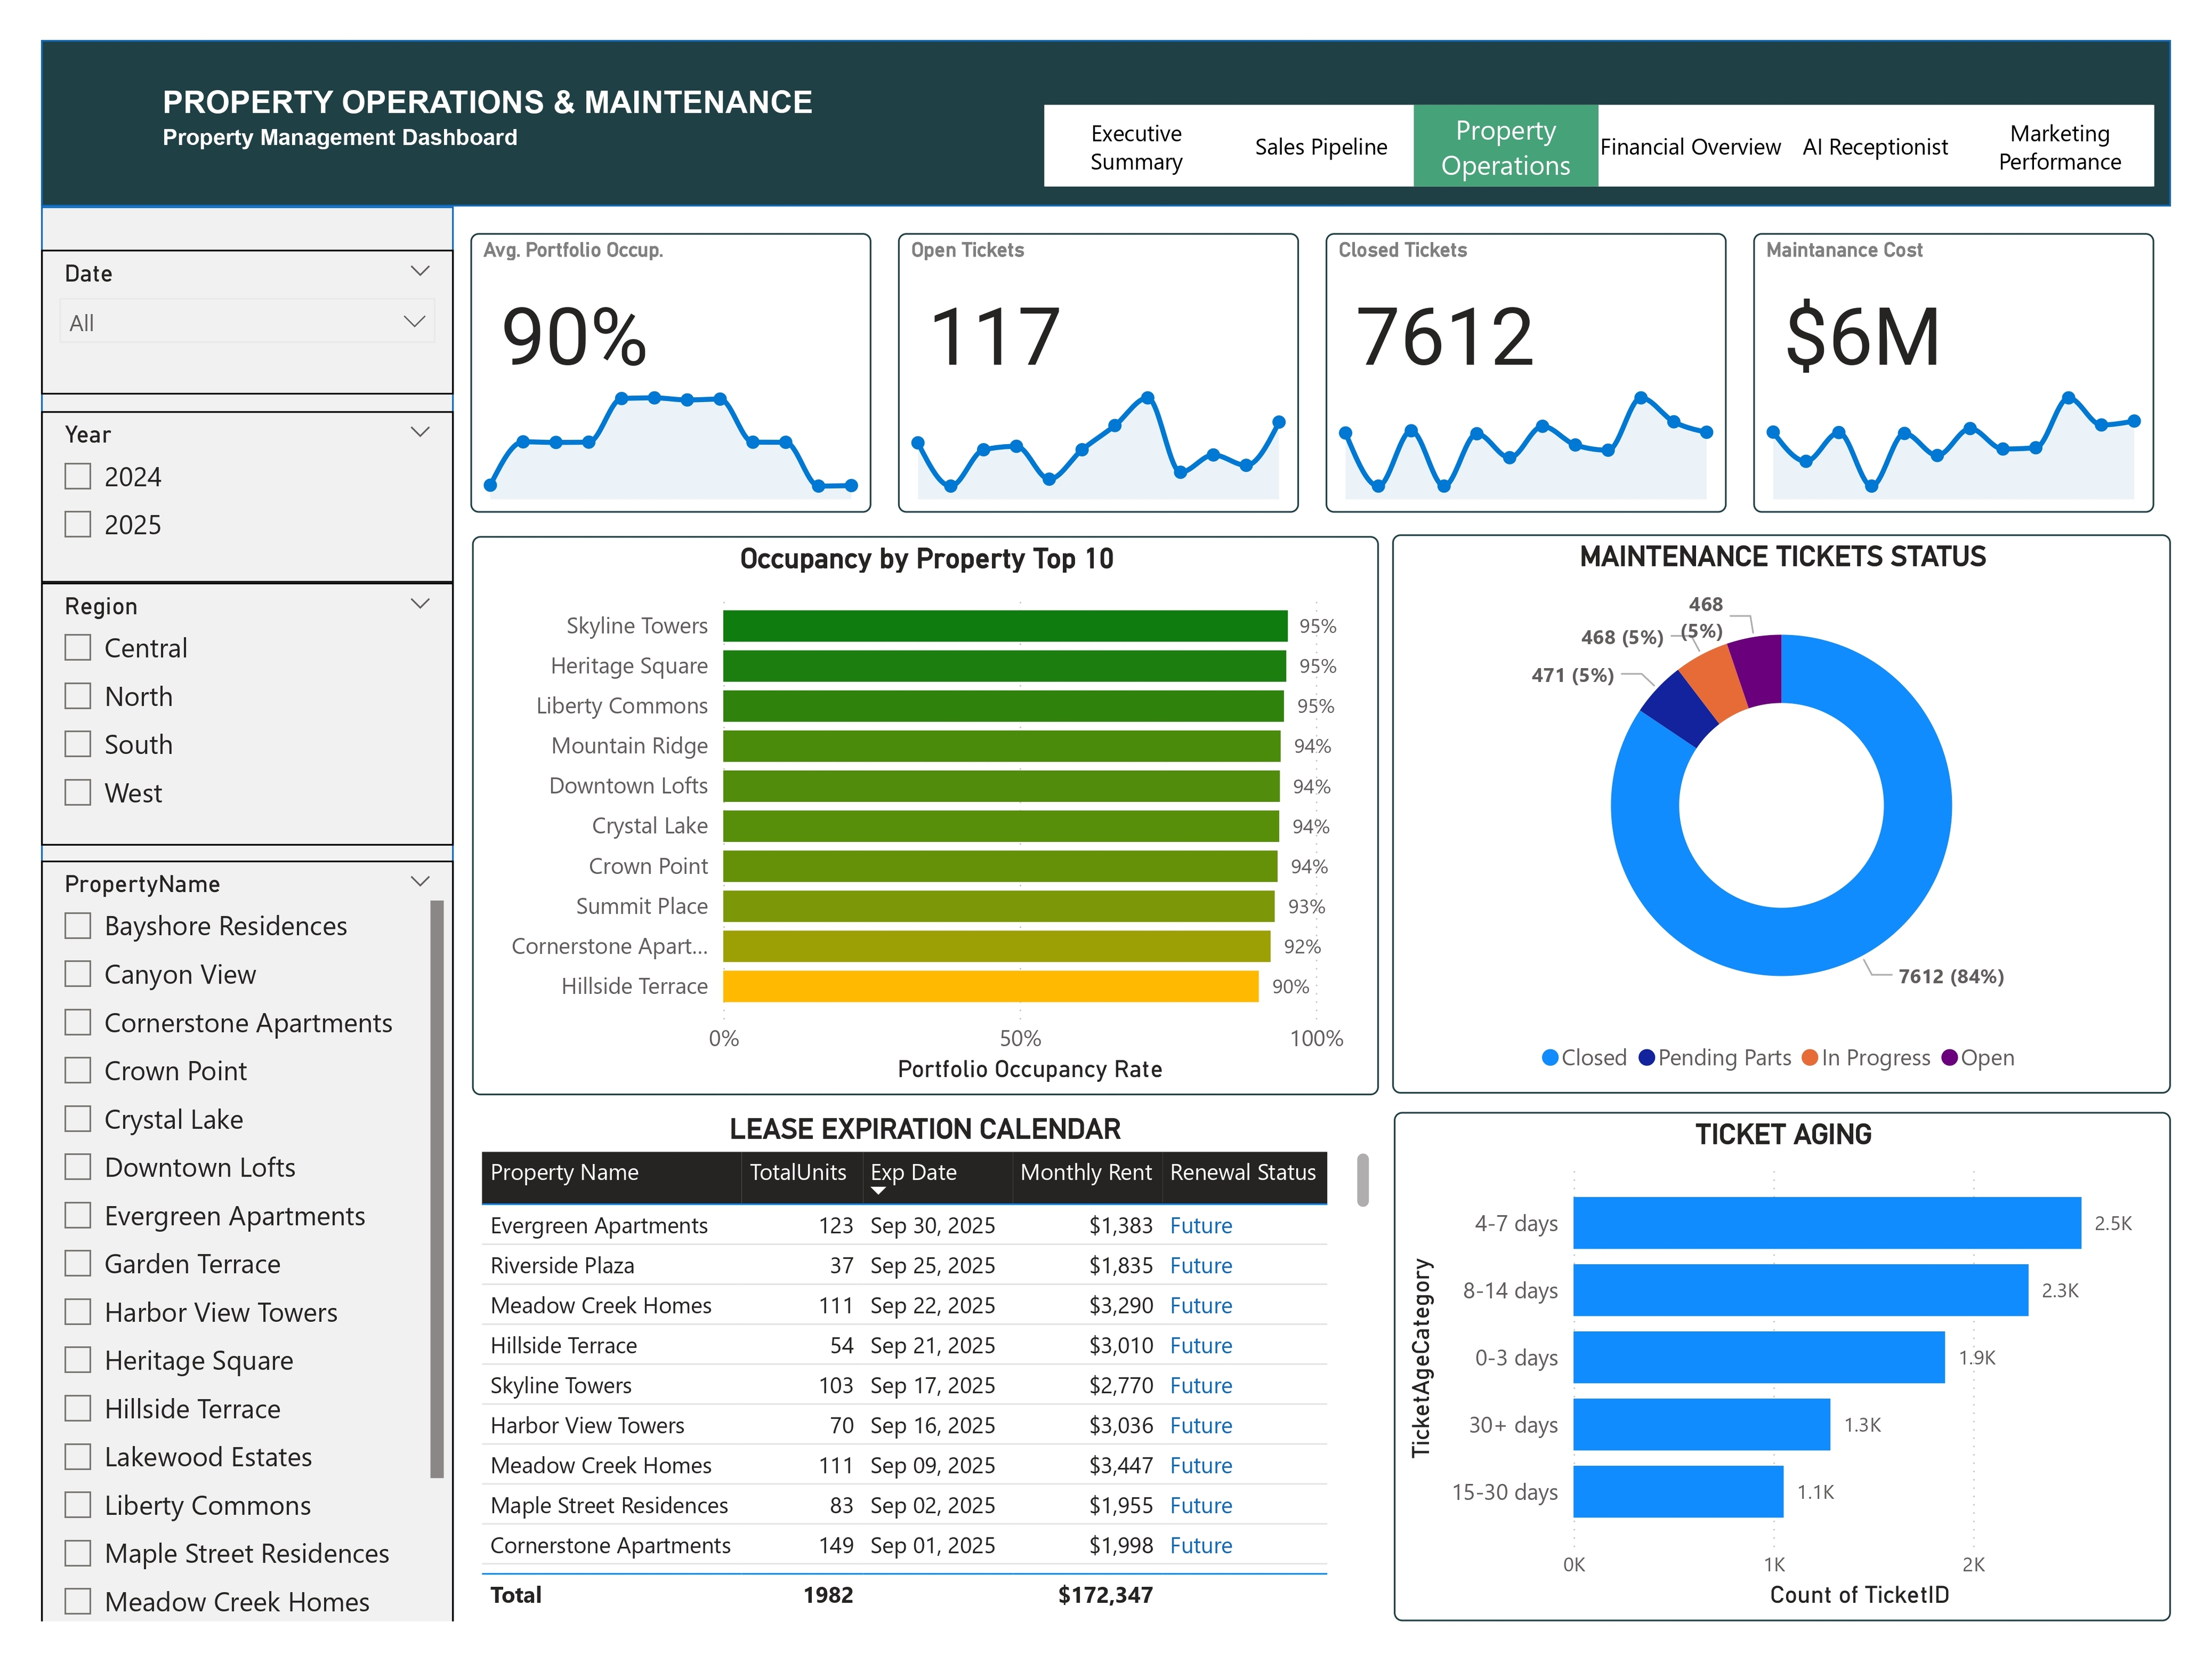

The dashboard page shown, as its layout file describes it:
{"tool":"powerbi","page":{"name":"Property Operations","canvas":[1280,950],"ordinal":2},"visuals":[{"type":"shape","box":[0,0,1280,100],"z":0},{"type":"shape","box":[0,100,247.8,950],"z":1000},{"type":"textbox","box":[67.8,22.2,412.2,55.6],"z":2000},{"type":"slicer","fields":{"Values":["DateTable.Date"]},"box":[0,126.1,247.9,87],"z":3000},{"type":"slicer","fields":{"Values":["DateTable.Date.Variation.Date Hierarchy.Year"]},"box":[0,223.2,247.9,102.9],"z":4000},{"type":"slicer","fields":{"Values":["Properties.Region"]},"box":[0,326.2,247.9,158],"z":5000},{"type":"slicer","fields":{"Values":["Properties.PropertyName"]},"box":[0,492.9,247.9,532],"z":6000},{"type":"pageNavigator","box":[603,39.1,666.8,49.3],"z":7000},{"type":"PBI_CV_7B952816_A48F_49B4_9E13_15E3BB2C0337","title":"Avg. Portfolio Occup.","fields":{"axis":["DateTable.Date.Variation.Date Hierarchy.Month"],"Values":["_Measures.Portfolio Occupancy Rate"]},"box":[258.2,115.6,241,168.1],"z":8000,"group":"g1"},{"type":"PBI_CV_7B952816_A48F_49B4_9E13_15E3BB2C0337","title":"Open Tickets","fields":{"target":["_Measures.Revenue Target"],"axis":["DateTable.Date.Variation.Date Hierarchy.Month"],"Values":["_Measures.Open Tickets"]},"box":[515.1,115.7,241.1,168.1],"z":9000,"group":"g1"},{"type":"PBI_CV_7B952816_A48F_49B4_9E13_15E3BB2C0337","title":"Closed Tickets","fields":{"target":["_Measures.Revenue Target"],"axis":["DateTable.Date.Variation.Date Hierarchy.Month"],"Values":["_Measures.Closed Tickets"]},"box":[772.1,115.7,241.1,168.1],"z":10000,"group":"g1"},{"type":"PBI_CV_7B952816_A48F_49B4_9E13_15E3BB2C0337","title":"Maintanance Cost","fields":{"target":["_Measures.Revenue Target"],"axis":["DateTable.Date.Variation.Date Hierarchy.Month"],"Values":["_Measures.Total Maintenance Cost"]},"box":[1029.1,115.7,241.1,168.1],"z":11000,"group":"g1"},{"type":"donutChart","title":"MAINTENANCE TICKETS STATUS","fields":{"Category":["MaintenanceTickets.Status"],"Y":["_Measures.Total Tickets"]},"box":[812.3,297.2,467.7,336.1],"z":12000},{"type":"barChart","title":"Occupancy by Property Top 10","fields":{"Category":["Properties.PropertyName"],"Y":["_Measures.Portfolio Occupancy Rate"]},"box":[258.8,297.5,545,336.2],"z":13000},{"type":"barChart","title":"TICKET AGING","fields":{"Category":["MaintenanceTickets.TicketAgeCategory"],"Y":["CountNonNull(MaintenanceTickets.TicketID)"]},"box":[812.5,643.8,467.5,306.2],"z":14000},{"type":"tableEx","title":"LEASE EXPIRATION CALENDAR ","fields":{"Values":["Properties.PropertyName","Sum(Properties.TotalUnits)","LeaseData.LeaseEndDate_Display","Sum(LeaseData.MonthlyRent)","LeaseData.RenewalStatus"]},"box":[258.8,643.8,545,306.2],"z":15000},{"type":"group","id":"g1","title":"Group 1","box":[258.2,115.6,1012.1,168.2],"z":15001}]}

Visuals, with their boxes in screenshot pixels (x1, y1, x2, y2), scaled from the page's 1280x950 canvas onto the 2212x1662 screenshot:
shape: <region>0, 0, 2211, 175</region>
shape: <region>0, 175, 428, 1661</region>
textbox: <region>117, 39, 830, 136</region>
slicer - DateTable.Date: <region>0, 221, 429, 373</region>
slicer - DateTable.Date.Variation.Date Hierarchy.Year: <region>0, 390, 429, 571</region>
slicer - Properties.Region: <region>0, 571, 429, 847</region>
slicer - Properties.PropertyName: <region>0, 862, 429, 1661</region>
pageNavigator: <region>1042, 69, 2194, 155</region>
"Avg. Portfolio Occup." PBI_CV_7B952816_A48F_49B4_9E13_15E3BB2C0337: <region>446, 202, 863, 496</region>
"Open Tickets" PBI_CV_7B952816_A48F_49B4_9E13_15E3BB2C0337: <region>890, 202, 1307, 497</region>
"Closed Tickets" PBI_CV_7B952816_A48F_49B4_9E13_15E3BB2C0337: <region>1334, 202, 1751, 497</region>
"Maintanance Cost" PBI_CV_7B952816_A48F_49B4_9E13_15E3BB2C0337: <region>1778, 202, 2195, 497</region>
"MAINTENANCE TICKETS STATUS" donutChart: <region>1404, 520, 2211, 1108</region>
"Occupancy by Property Top 10" barChart: <region>447, 520, 1389, 1108</region>
"TICKET AGING" barChart: <region>1404, 1126, 2211, 1661</region>
"LEASE EXPIRATION CALENDAR " tableEx: <region>447, 1126, 1389, 1661</region>
"Group 1" group: <region>446, 202, 2195, 497</region>
